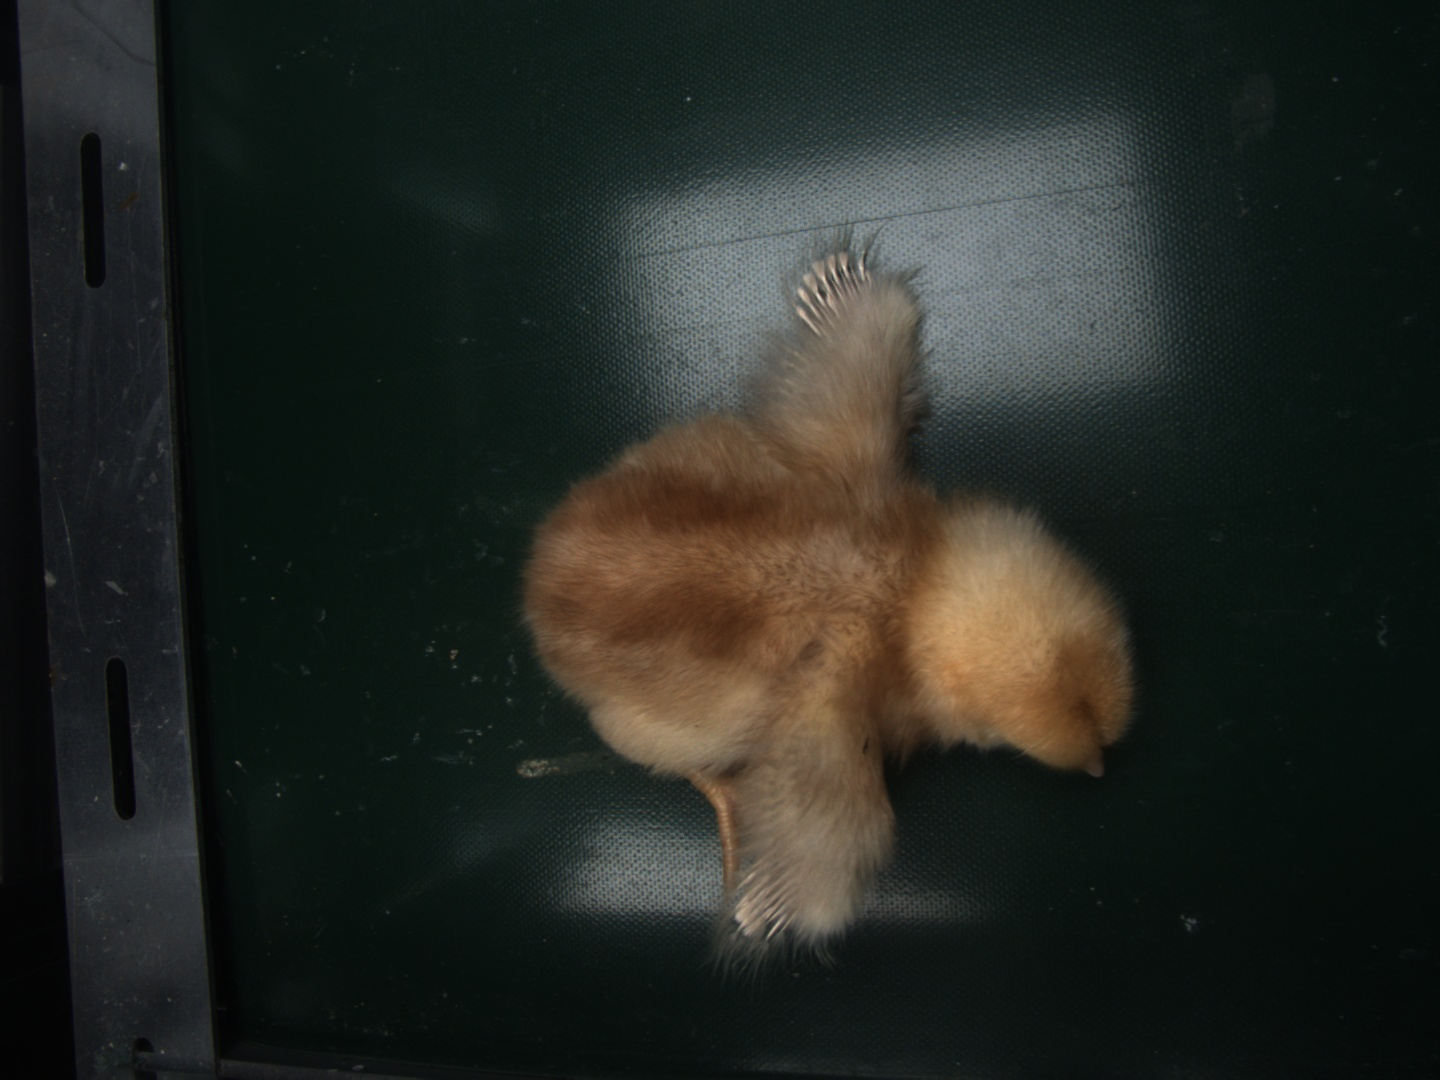female: (795, 251, 874, 336)
